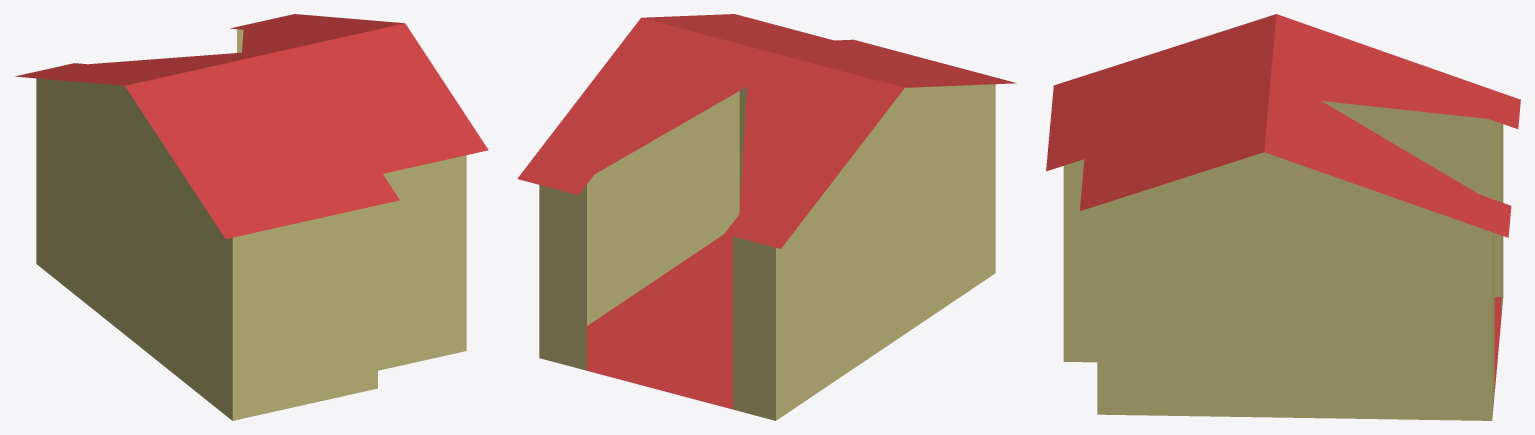
The picture shows the model from 3 angles, left to right: view 1: azimuth 30°, elevation 25°; view 2: azimuth 150°, elevation 25°; view 3: azimuth 270°, elevation 25°; orthographic projection. The views are drawn at different scales.
Bounding box in the file's own units: 10.13 × 13.96 × 8.83.
